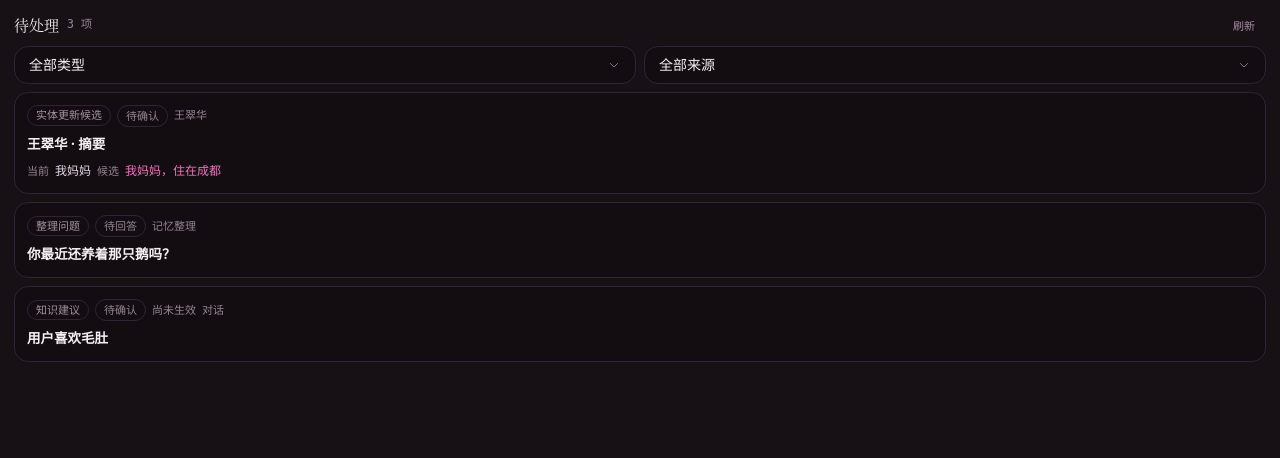
PendingItems 整理问题动作（回答 / 稍后处理） › 回答失败保留输入与错误，可重试
Click the button "整理问题 待回答 记忆整理 你最近还养着那只鹅吗？": (58, 226) [14,202,1266,278]
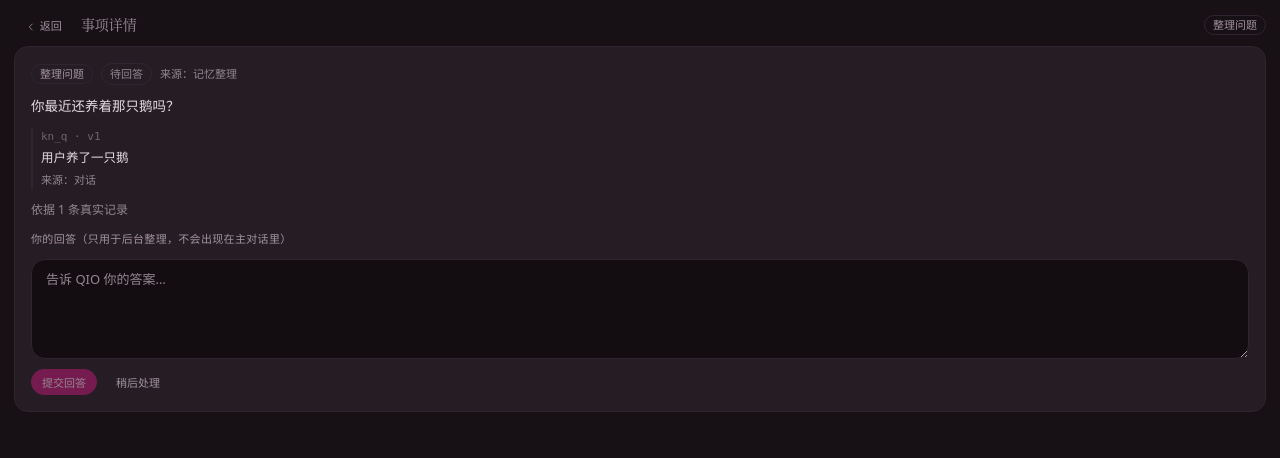
In the text box labelled "你的回答（只用于后台整理，不会出现在主对话里）": (640, 309) [31,259,1249,359], type "我的回答"
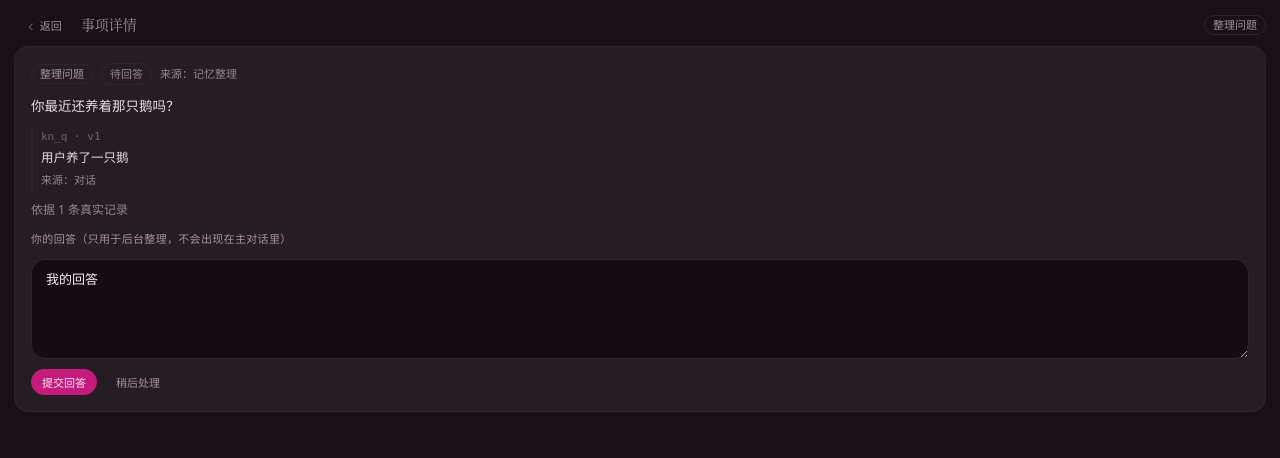
Click the button "提交回答": (64, 382) [31,369,97,395]
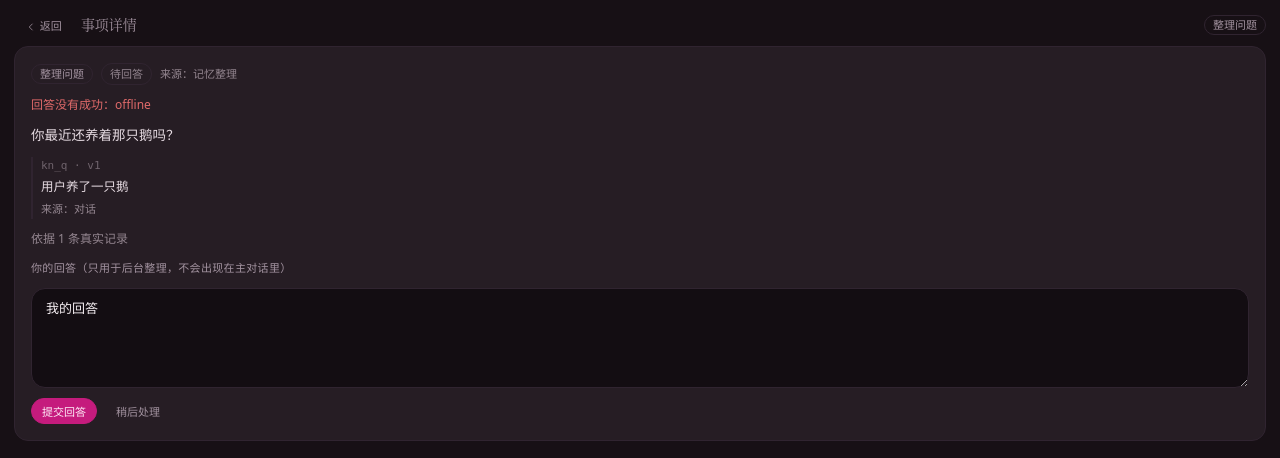
Check: the text "回答没有成功" is shown, box [31,96,151,113]
